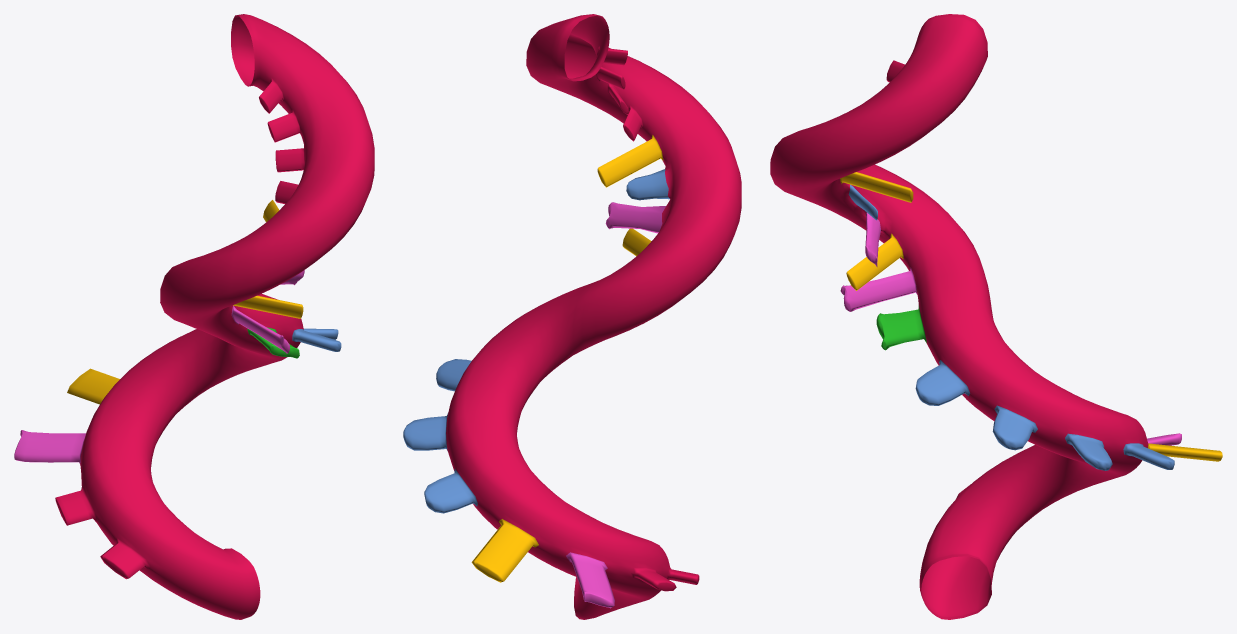
Rendered from mRNA_VaccinesNoLight.fbx.
3 renders of one model, left to right at view 1: azimuth 30°, elevation 25°; view 2: azimuth 150°, elevation 25°; view 3: azimuth 270°, elevation 25°, orthographic. The views are drawn at different scales.
Visible parts, largest first — view 1: mRNA_Vaccines_geo; view 2: mRNA_Vaccines_geo; view 3: mRNA_Vaccines_geo.
Boxes of the visible parts, bbox=[...] form: mRNA_Vaccines_geo: bbox=[14, 14, 374, 619]; mRNA_Vaccines_geo: bbox=[403, 14, 741, 619]; mRNA_Vaccines_geo: bbox=[770, 14, 1222, 619].
Size of the model in its own units: 1.94 by 4.35 by 2.94.
Materials: 1 (1 with a texture image).
